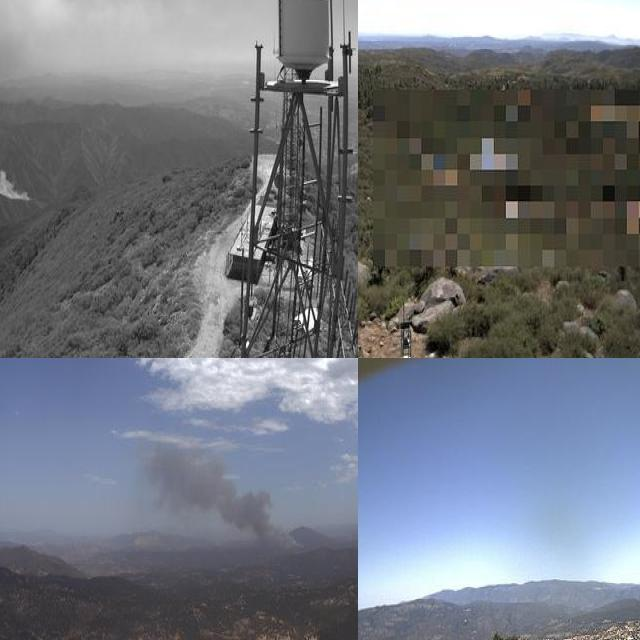smoke: (135, 432, 306, 565)
